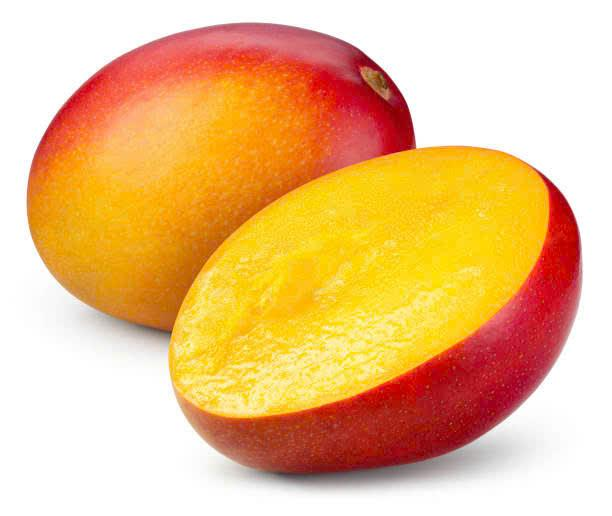mango: (191, 151, 555, 448), (41, 10, 394, 284)
